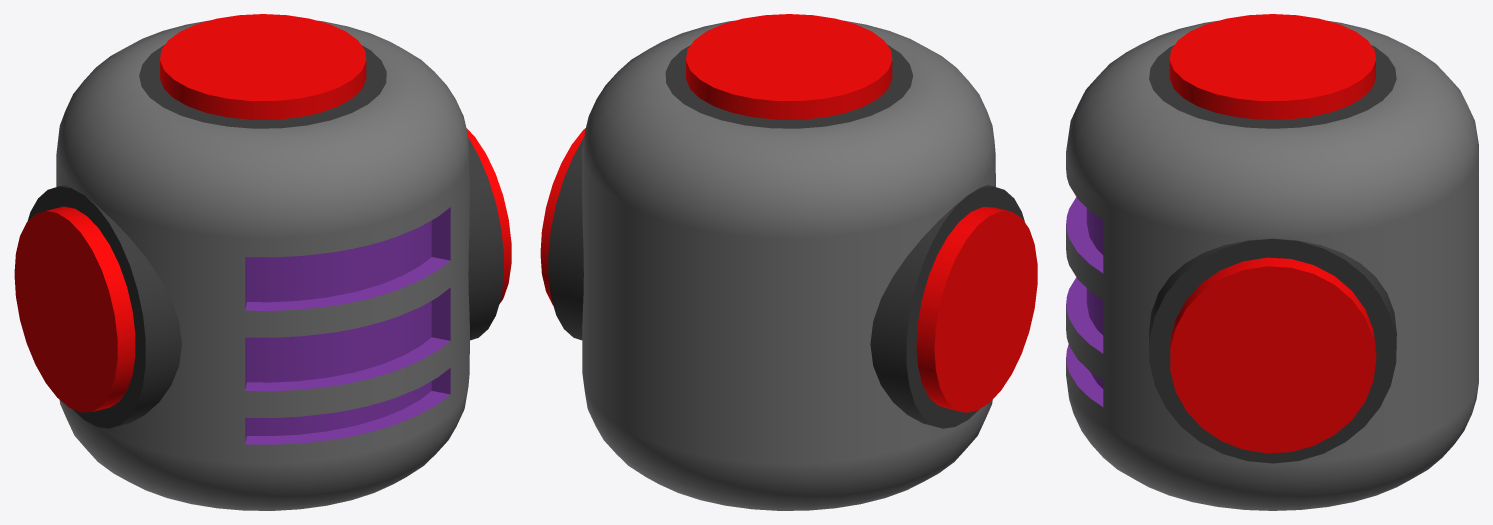
The model's file is TankyPodDeluxe.fbx.
3 renders of one model, left to right at view 1: azimuth 30°, elevation 25°; view 2: azimuth 150°, elevation 25°; view 3: azimuth 270°, elevation 25°, orthographic.
Visible parts, largest first — view 1: PodBodyDeluxe v1; view 2: PodBodyDeluxe v1; view 3: PodBodyDeluxe v1.
Part boxes in pixels (x1,y1,x2,y2): PodBodyDeluxe v1: (14,14,511,510); PodBodyDeluxe v1: (540,14,1037,510); PodBodyDeluxe v1: (1066,14,1478,510).
Size of the model in its own units: 110 by 105 by 99.83.
